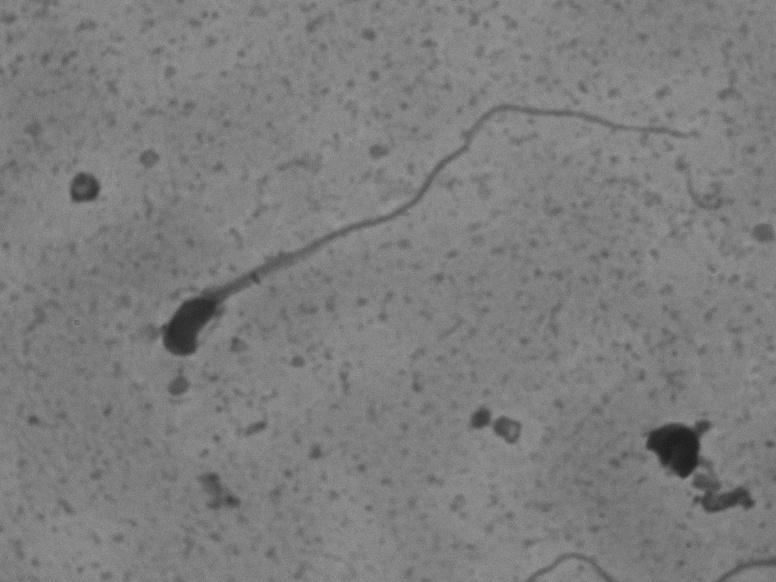Abnormal: (148, 79, 713, 411)
